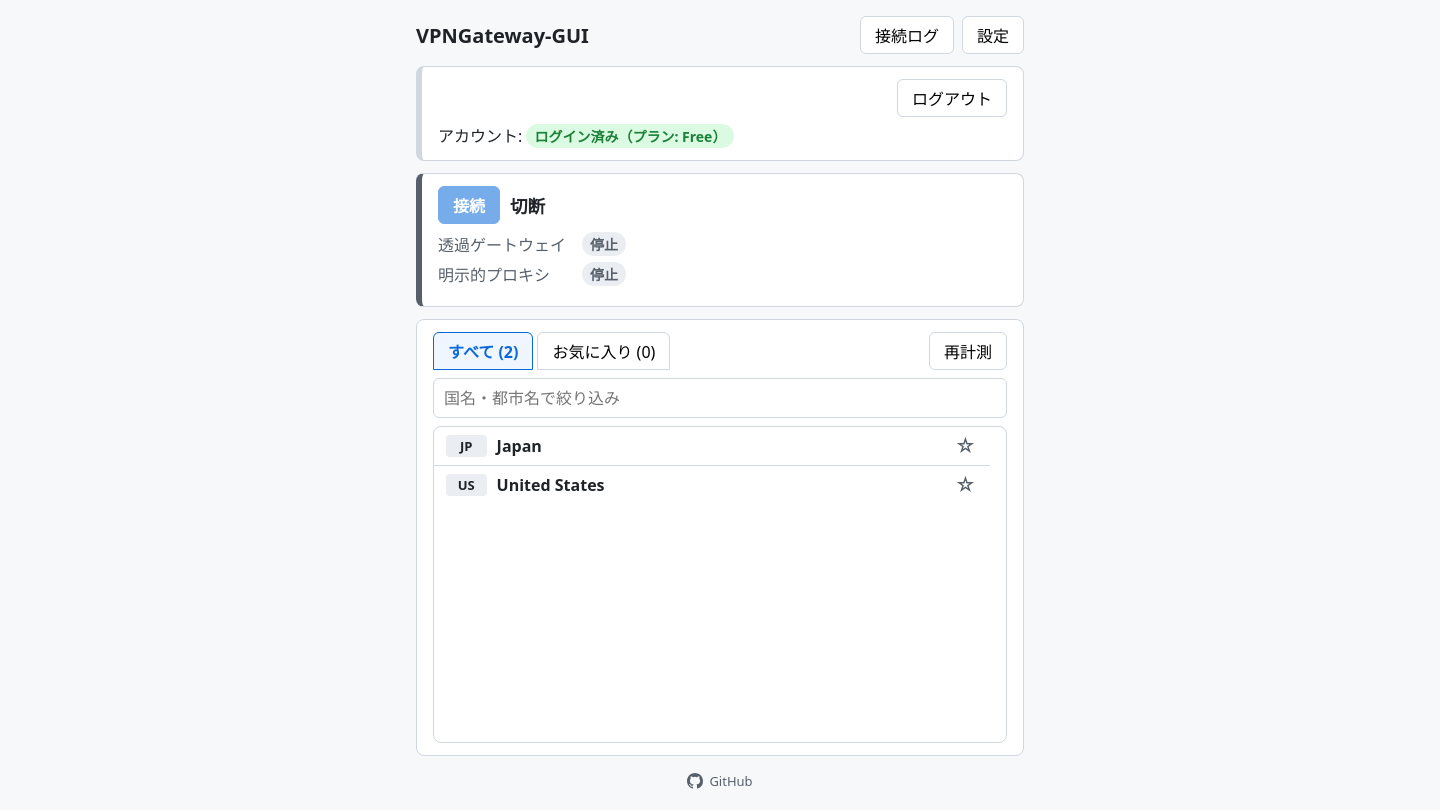
App（プロバイダの機能差・プラン制限） › 無料プラン（接続先を選べない・自動接続のみ） › 接続が403（プラン制限）で失敗したら、プラン制限として通知し、実行可否を再取得する
Click the radio button labelled "JP Japan": coordinates (494, 446) [446, 435, 542, 457]
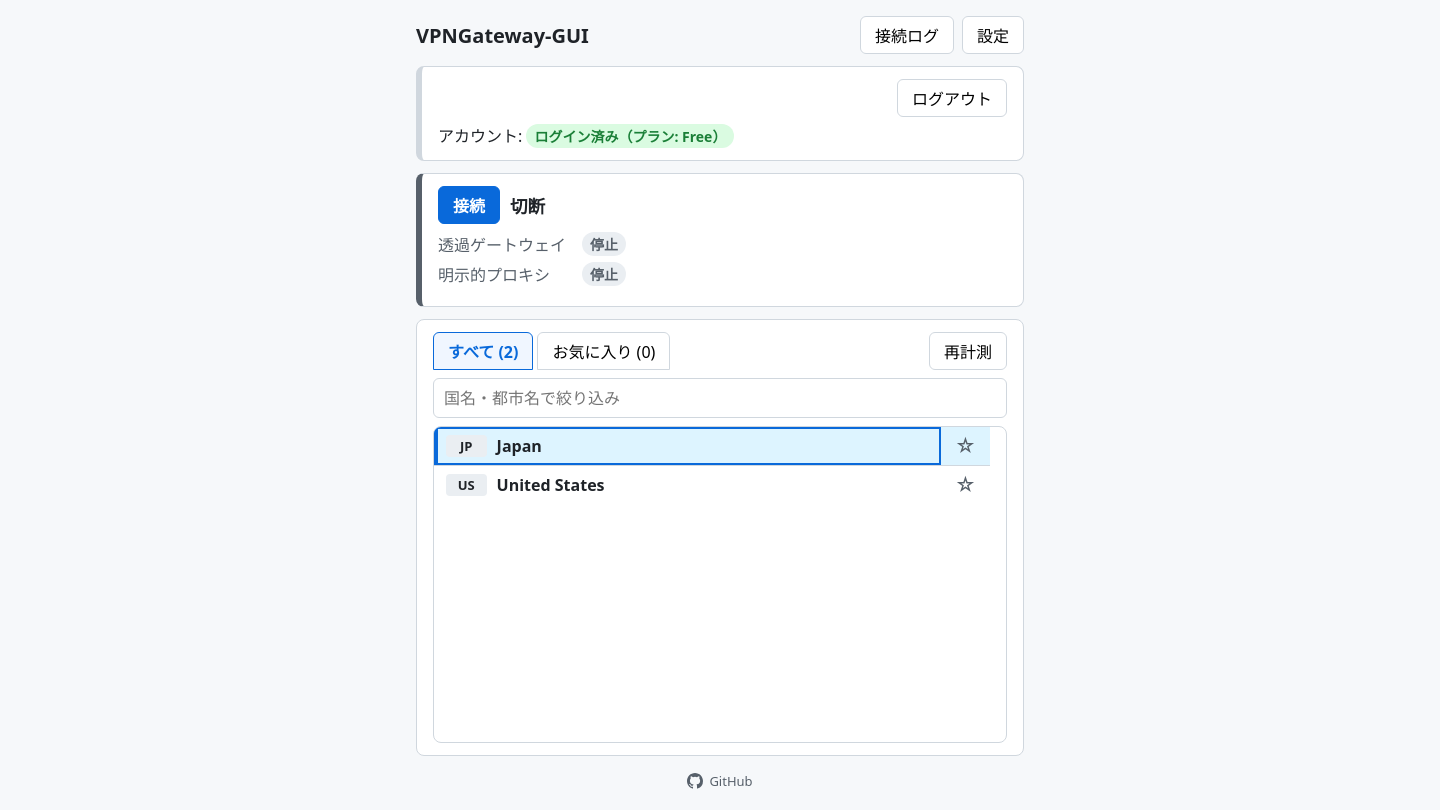
Click the button "接続": coordinates (469, 205) [438, 186, 500, 224]
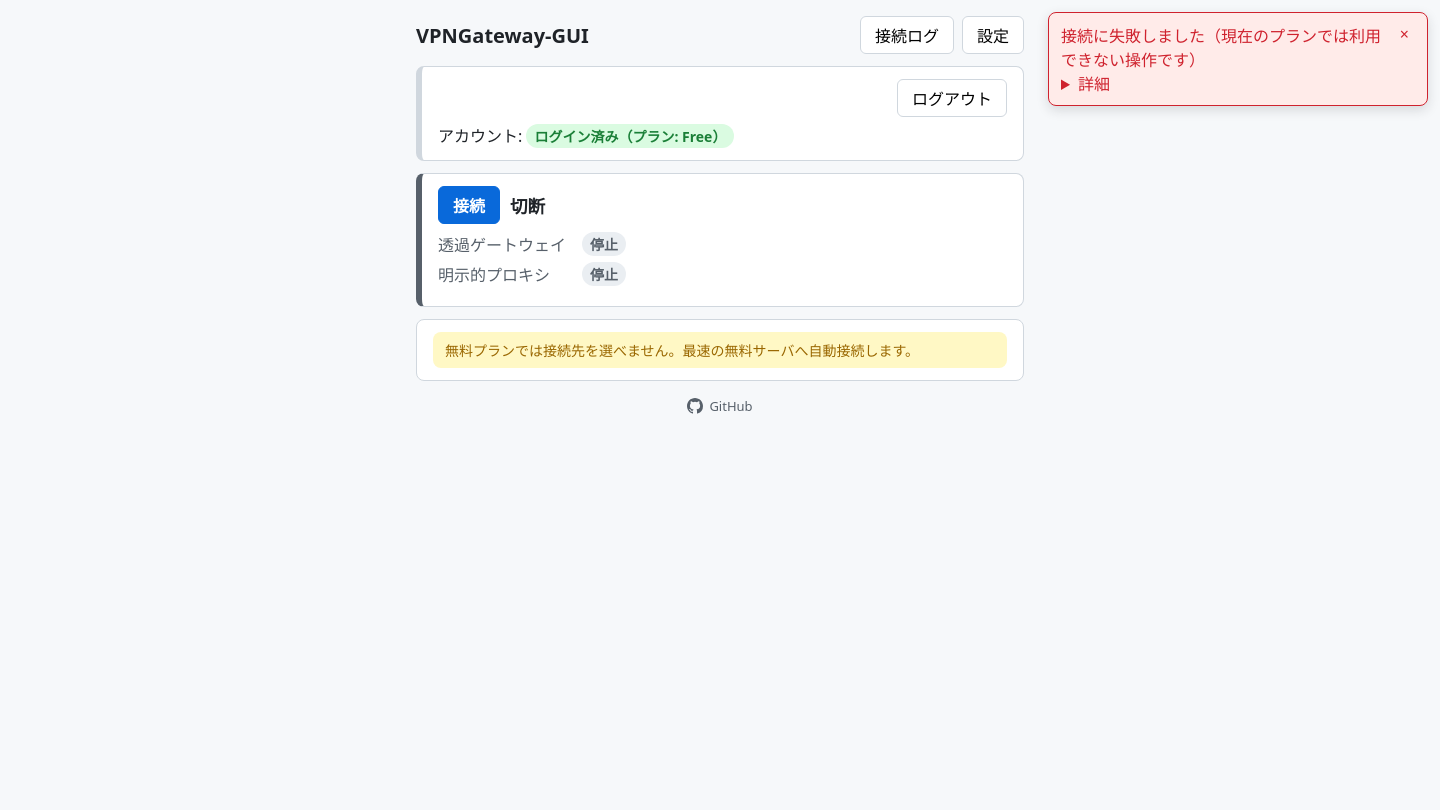
Expected: the text "接続に失敗しました（現在のプランでは利用できない操作です）" is shown, [1061, 25, 1381, 71]
Expected: the text "無料プランでは接続先を選べません。最速の無料サーバへ自動接続します。" is shown, [433, 332, 1007, 368]
